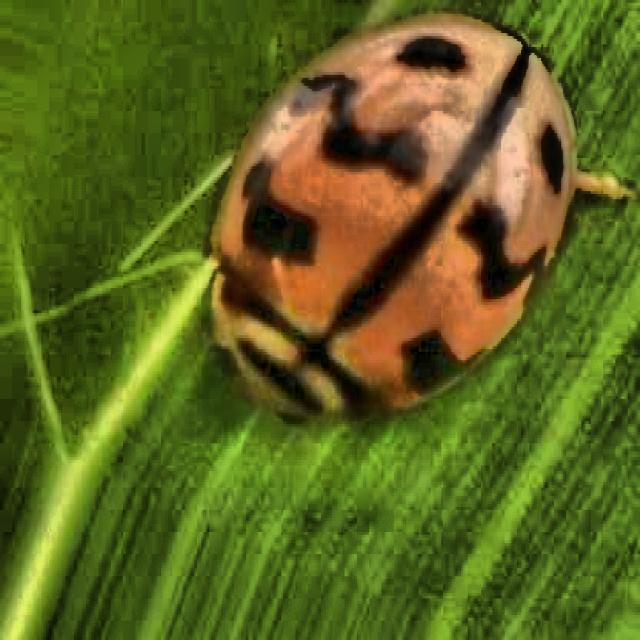Asian-Lady-beetle: (153, 4, 638, 508)
